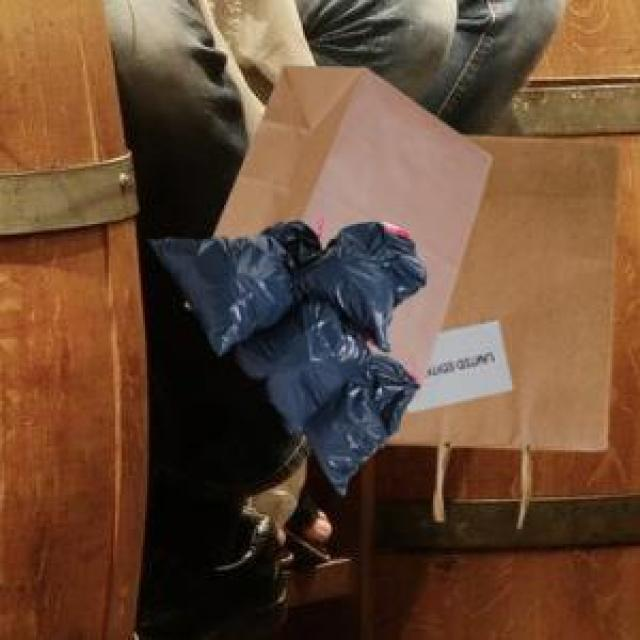miscellaneous trash: (146, 216, 422, 491)
paper: (380, 132, 613, 523), (209, 62, 486, 384)
